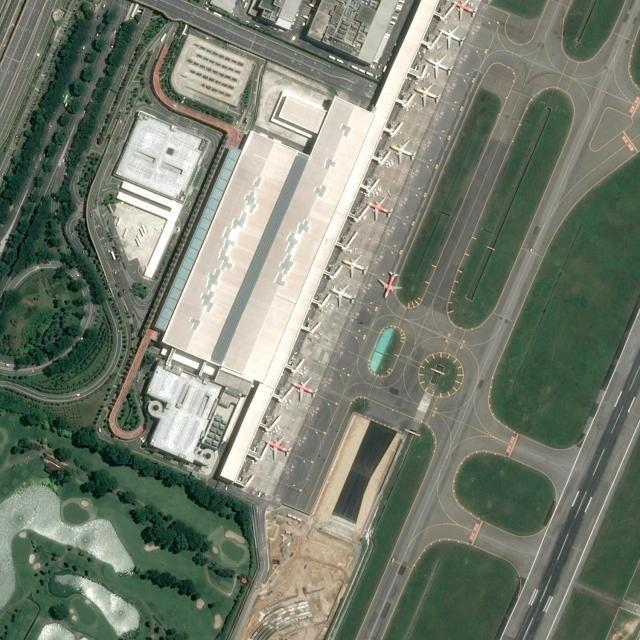Aircraft: (376, 270, 404, 300), (424, 53, 452, 78), (291, 375, 317, 401), (440, 24, 466, 48), (342, 254, 368, 278), (329, 283, 355, 307), (265, 435, 291, 459), (415, 83, 442, 106), (389, 139, 413, 164), (366, 196, 391, 220), (452, 0, 477, 19)
